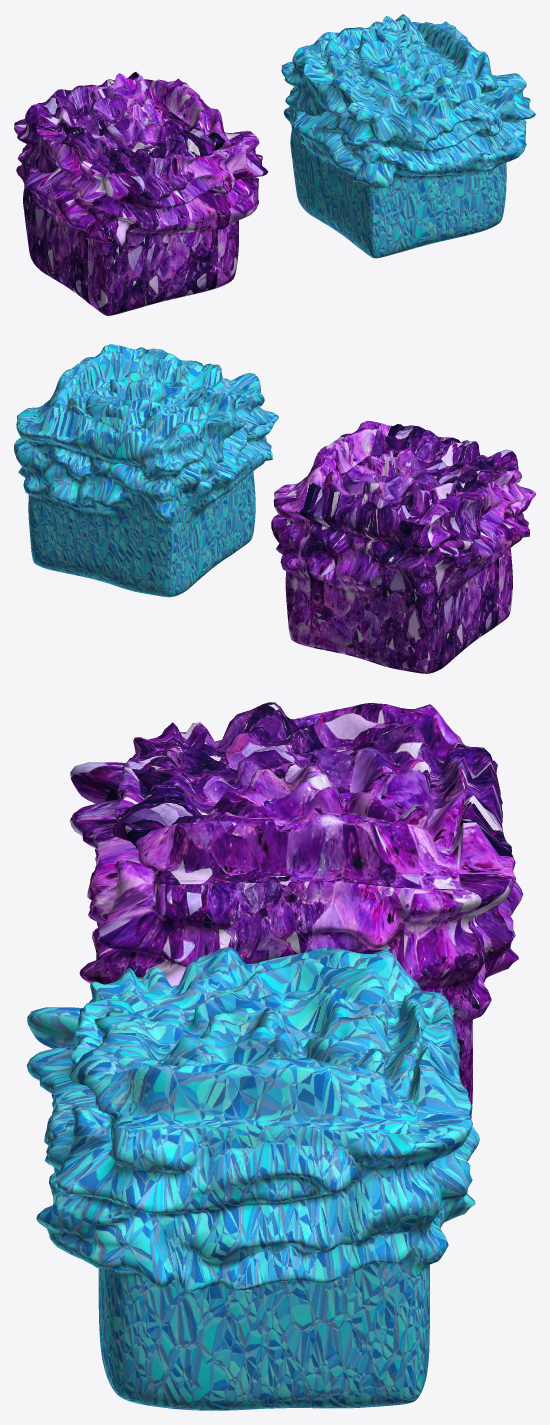
The model's file is CubeCrystal.fbx.
The picture shows the model from 3 angles, top to bottom: view 1: azimuth 30°, elevation 25°; view 2: azimuth 150°, elevation 25°; view 3: azimuth 270°, elevation 25°; orthographic projection. The views are drawn at different scales.
Parts seen in each view (by area): view 1: pCube4, pCube5; view 2: pCube4, pCube5; view 3: pCube4, pCube5.
Boxes of the visible parts, x1,y1,x2,y2 form: pCube4: [281, 14, 535, 258]; pCube5: [14, 71, 268, 315]; pCube4: [14, 344, 278, 597]; pCube5: [271, 420, 535, 673]; pCube4: [26, 947, 479, 1410]; pCube5: [70, 702, 523, 1118].
Size of the model in its own units: 12.66 by 4.7 by 6.
2 materials, 2 textured.
